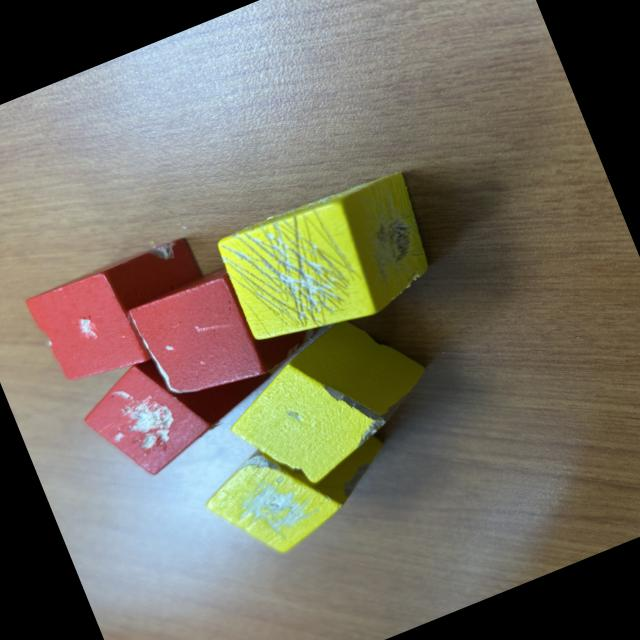broken: (208, 296, 454, 508), (211, 162, 448, 360), (70, 317, 292, 493), (191, 402, 408, 574), (125, 240, 331, 413), (22, 231, 227, 396)
